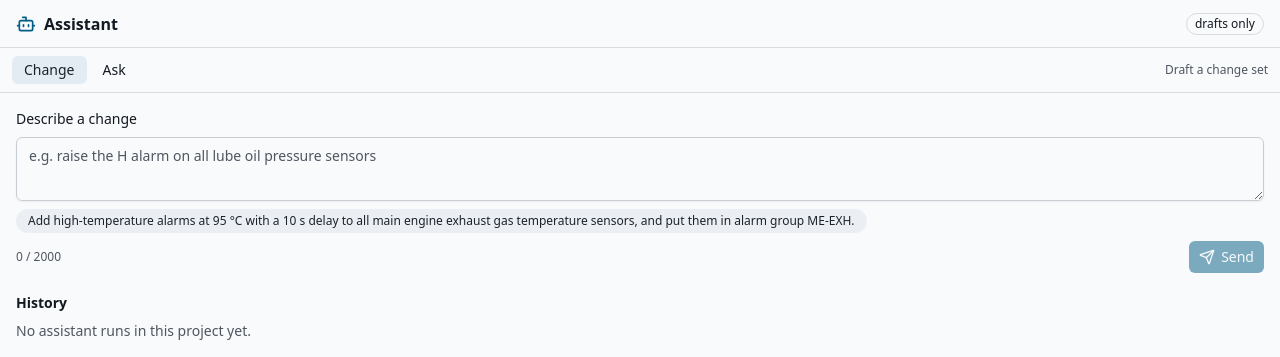
Test: mode switch › has Change (default, the agent) and Ask tabs
The width and height of the screenshot is (1280, 357).
Expected: the text box labelled "Describe a change" is shown, [16,137,1264,201]
What coordinates should you click on to do the following:
click the tab "Ask"
I would click on:
 (114, 70)
Its box is [90,56,138,84].
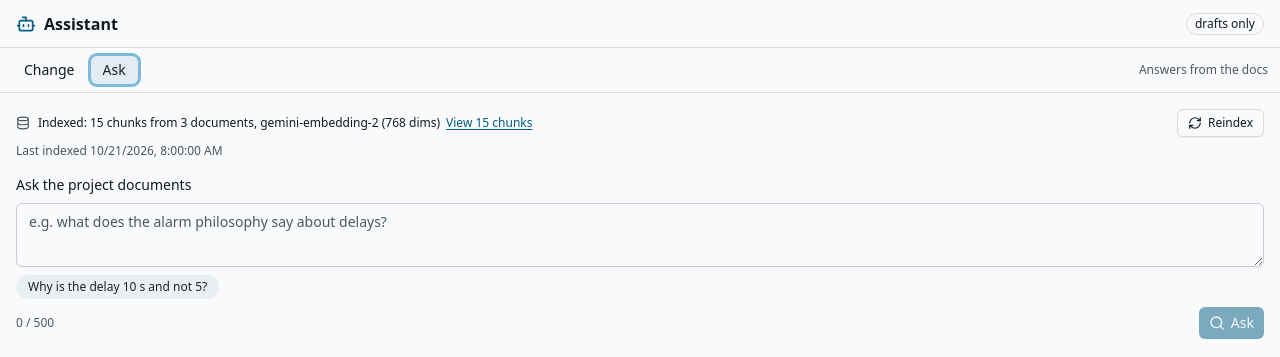
Now the label labelled "Describe a change" is gone
Now the text box labelled "Ask the project documents" is shown, box [16,203,1264,267]
What coordinates should you click on to do the following:
click the tab "Change"
I would click on:
 (49, 70)
Its box is [12,56,86,84].
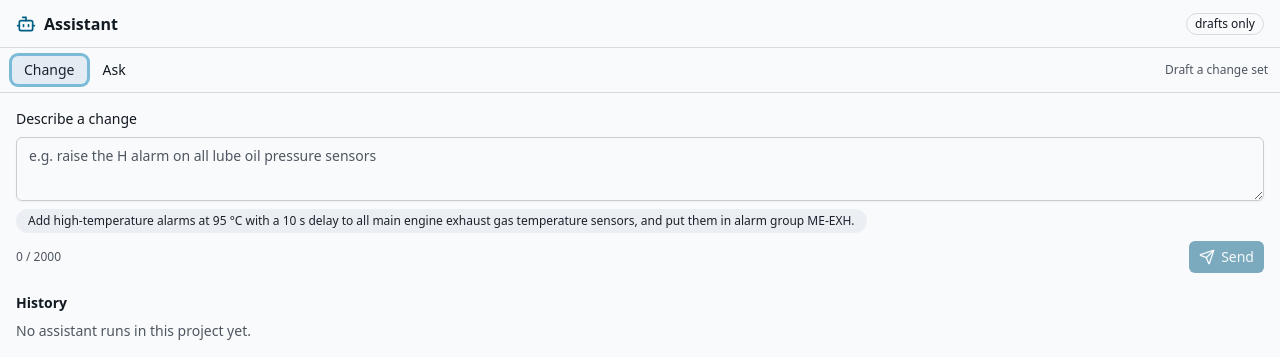
Now the text box labelled "Describe a change" is shown, box [16,137,1264,201]
